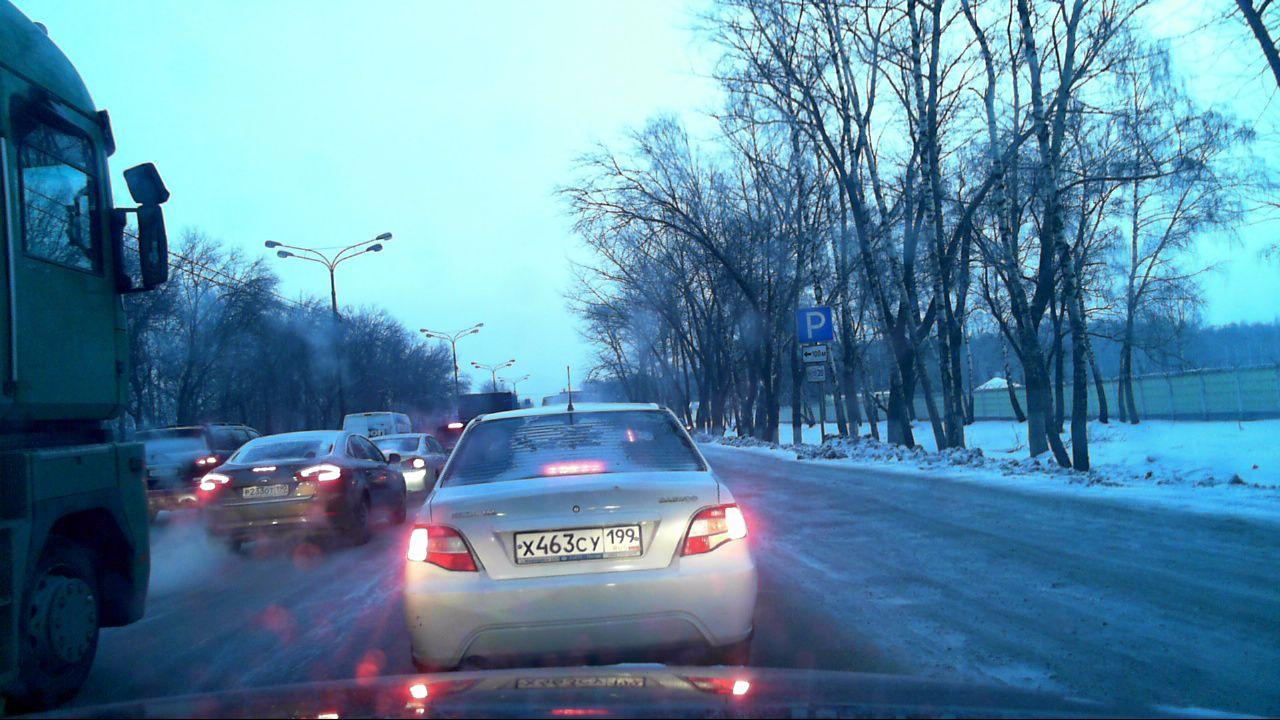6_4: (796, 306, 833, 343)
8_1_4: (801, 345, 827, 361)
8_8: (805, 365, 828, 383)
